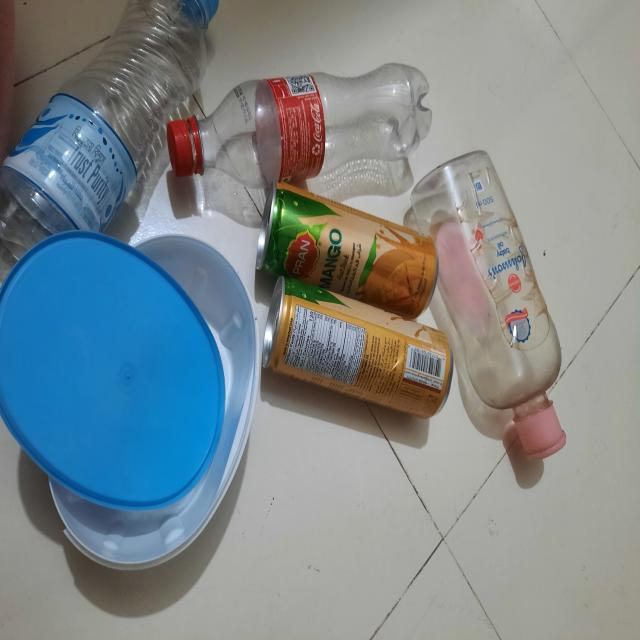Plastics: (0, 212, 256, 594), (0, 0, 429, 208), (434, 147, 585, 446)
can: (261, 186, 433, 447)
